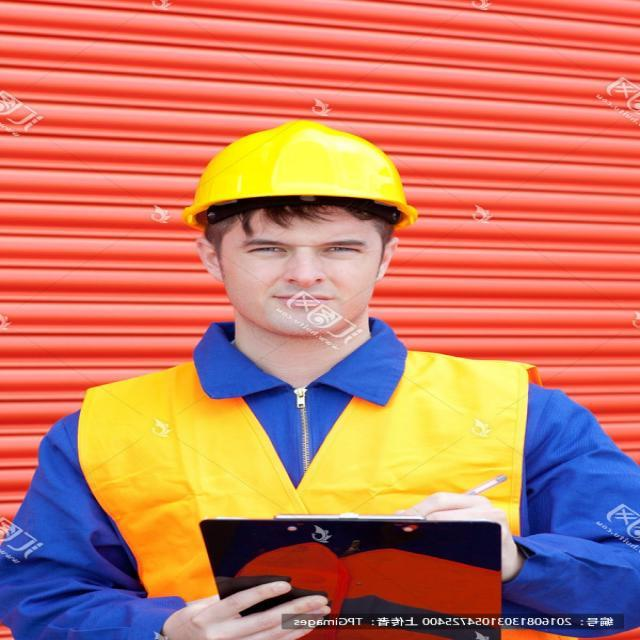safetyhelmet: (176, 114, 420, 345)
